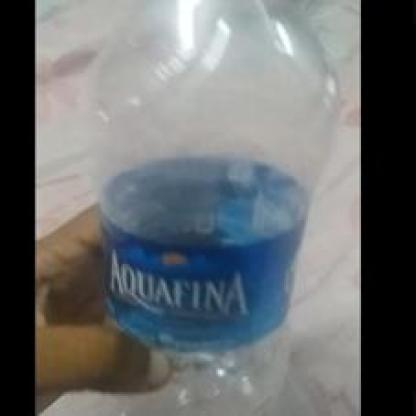bottle: (81, 0, 359, 414)
